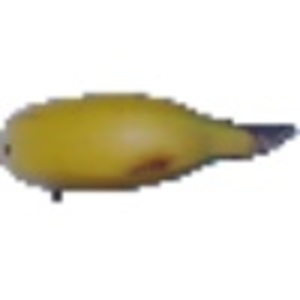banana: (3, 83, 288, 190)
